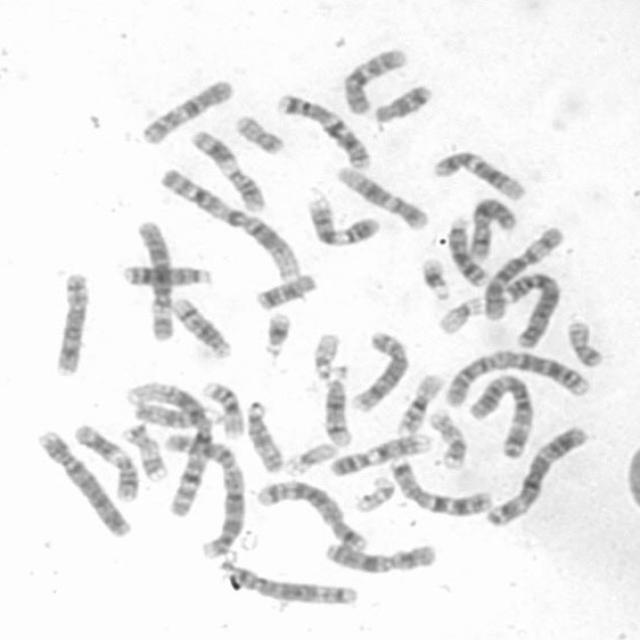A1: (155, 165, 305, 284), (123, 378, 213, 520)
A2: (160, 430, 248, 560), (441, 345, 594, 409)
A3: (481, 421, 592, 528), (462, 368, 536, 460)
B4: (32, 428, 133, 539), (500, 268, 562, 349)
B5: (251, 474, 369, 552), (215, 559, 360, 607)
C10: (138, 74, 236, 146), (338, 42, 410, 115)
C11: (187, 125, 271, 213), (71, 420, 142, 504)
C12: (332, 161, 431, 230), (428, 146, 528, 201)
C6: (479, 220, 566, 322), (130, 215, 176, 342)
C7: (271, 90, 374, 170), (384, 454, 494, 516)
C8: (348, 326, 412, 415), (50, 267, 91, 377)
C9: (327, 430, 433, 477), (302, 191, 380, 247)
D13: (442, 211, 490, 288), (117, 260, 215, 288)
D14: (167, 292, 236, 360), (319, 364, 356, 449)
D15: (242, 396, 286, 474), (130, 394, 225, 428)
E16: (392, 370, 444, 437), (196, 375, 245, 440)
E17: (120, 422, 170, 482), (425, 404, 469, 469)
E18: (249, 267, 320, 311), (370, 79, 434, 124)
F19: (280, 438, 340, 478), (432, 291, 484, 336)
F20: (231, 112, 286, 156), (562, 316, 606, 368)
G21: (417, 252, 453, 301), (258, 308, 292, 358)
G22: (351, 472, 397, 513), (310, 329, 343, 382)
X: (319, 536, 439, 576), (464, 194, 518, 262)
